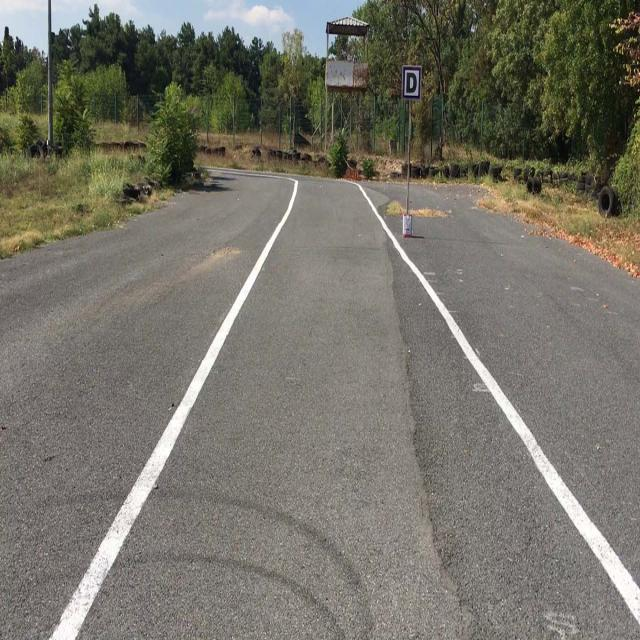durak: (402, 65, 420, 98)
